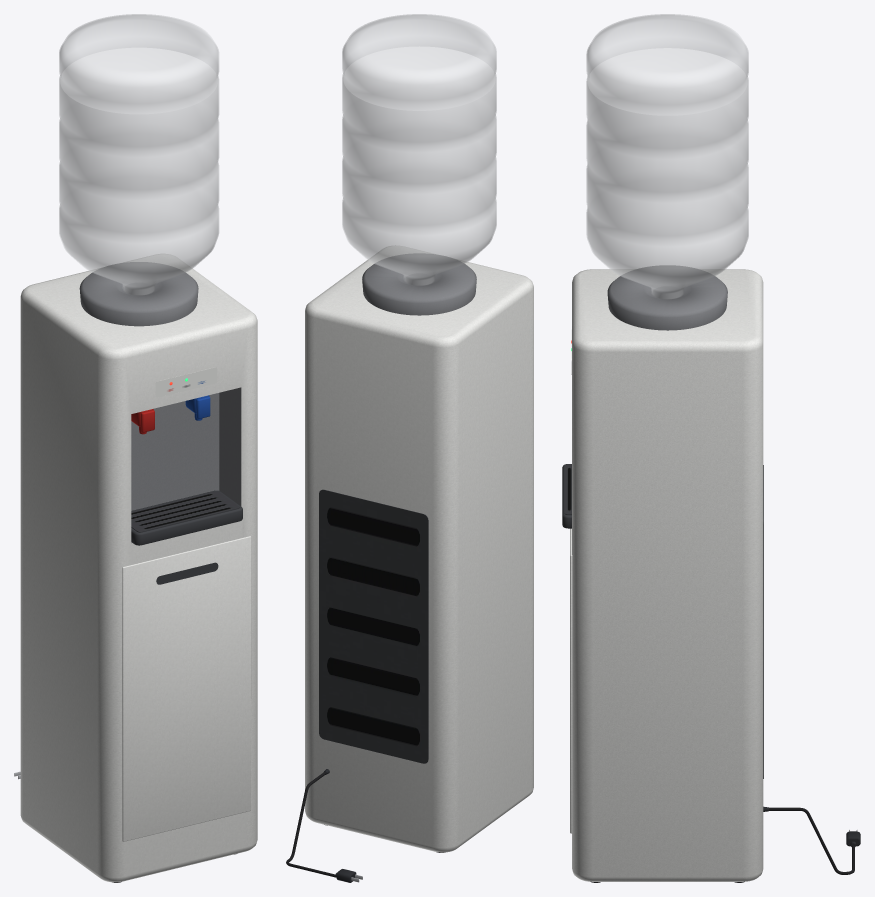
Rendered from water-dispenser.glb.
The picture shows the model from 3 angles, left to right: view 1: azimuth 30°, elevation 25°; view 2: azimuth 150°, elevation 25°; view 3: azimuth 270°, elevation 25°; orthographic projection. The views are drawn at different scales.
Visible parts, largest first — view 1: Cabinet, Water bottle, Bottle water, Bottle collar, Condenser grille, Tap labels; view 2: Cabinet, Water bottle, Bottle water, Condenser grille, Bottle collar, Mains cord; view 3: Cabinet, Water bottle, Bottle water, Bottle collar, Condenser grille.
Boxes of the visible parts, left/top/right/bottom form: Cabinet: left=20, top=254, right=257, bottom=882; Water bottle: left=59, top=14, right=218, bottom=294; Bottle water: left=60, top=48, right=217, bottom=287; Bottle collar: left=79, top=262, right=241, bottom=543; Condenser grille: left=131, top=490, right=242, bottom=584; Tap labels: left=155, top=367, right=217, bottom=397; Cabinet: left=305, top=245, right=533, bottom=852; Water bottle: left=342, top=14, right=496, bottom=285; Bottle water: left=343, top=46, right=495, bottom=278; Condenser grille: left=319, top=489, right=428, bottom=763; Bottle collar: left=362, top=253, right=476, bottom=315; Mains cord: left=286, top=769, right=335, bottom=877; Cabinet: left=570, top=269, right=763, bottom=881; Water bottle: left=586, top=14, right=748, bottom=298; Bottle water: left=588, top=48, right=747, bottom=291; Bottle collar: left=607, top=265, right=727, bottom=330; Condenser grille: left=562, top=464, right=763, bottom=778.
Bounding box in the file's own units: 0.306 × 1.48 × 0.4954.
Materials: 16 (11 with a texture image).
